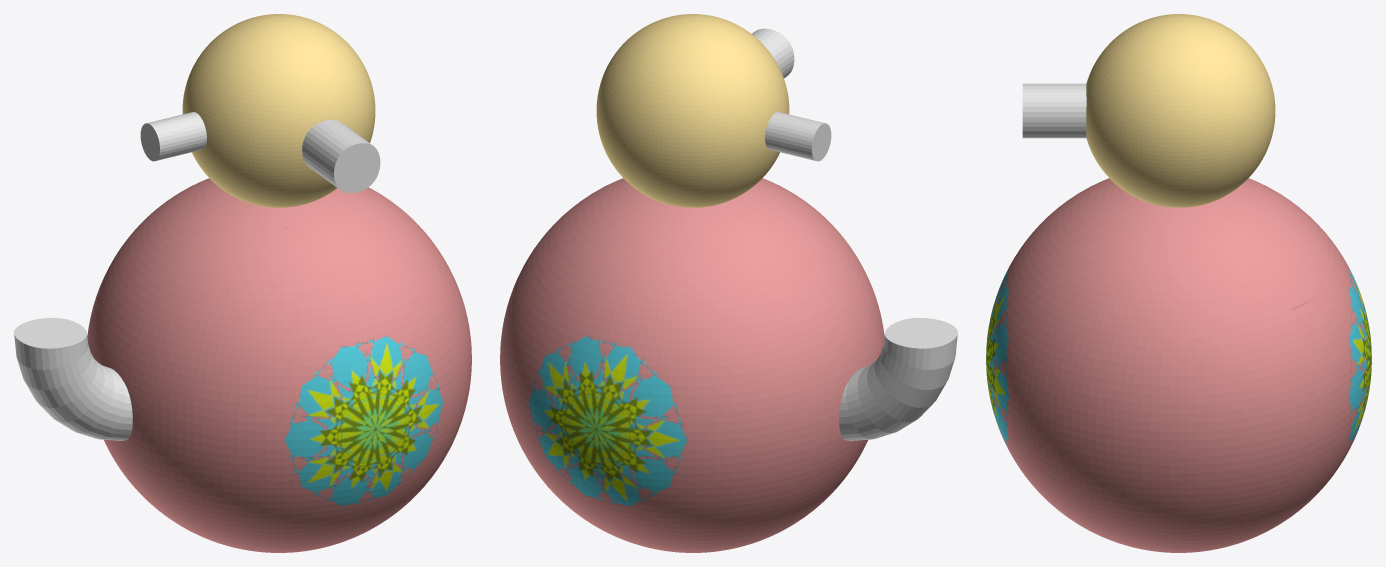
File: BOD0_BMC4_BCC11_BPT0_FRC23_HEA0_HMC13_HCC13_HPT0_ELT1_ERT0_ELL2_ERL0_AP1_AAL1_AAR1_BEK1.fbx
3 views of the same model, side by side, from view 1: azimuth 30°, elevation 25°; view 2: azimuth 150°, elevation 25°; view 3: azimuth 270°, elevation 25° (orthographic).
Visible parts, largest first — view 1: Body, Arm, Beak, Ear; view 2: Body, Arm, Ear, Beak; view 3: Body, Beak.
Part boxes in pixels (box(x1,y1,x2,y2)): Body: box(87, 14, 471, 552); Arm: box(14, 317, 132, 440); Beak: box(302, 119, 380, 193); Ear: box(140, 112, 206, 161); Body: box(500, 14, 884, 552); Arm: box(839, 317, 957, 440); Ear: box(765, 112, 831, 161); Beak: box(752, 28, 794, 78); Body: box(986, 14, 1371, 552); Beak: box(1022, 83, 1086, 138).
Size of the model in its own units: 62.99 by 72.41 by 49.36.
Materials: 1 (1 with a texture image).
